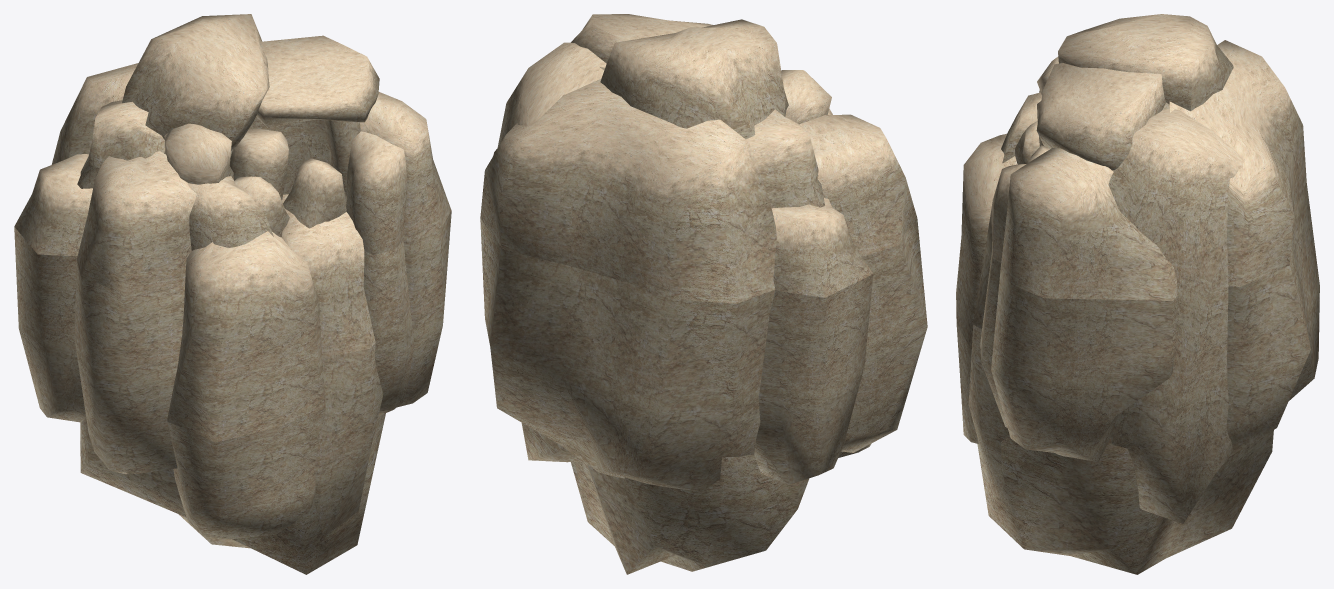
File: poi_all_lair_rancor_light_large_l0.fbx
3 renders of one model, left to right at view 1: azimuth 30°, elevation 25°; view 2: azimuth 150°, elevation 25°; view 3: azimuth 270°, elevation 25°, orthographic. The views are drawn at different scales.
Visible parts, largest first — view 1: mesh_node; view 2: mesh_node; view 3: mesh_node.
Part boxes in pixels (left/top/right/bottom): mesh_node: left=14, top=14, right=451, bottom=574; mesh_node: left=480, top=14, right=927, bottom=574; mesh_node: left=956, top=14, right=1319, bottom=574.
Size of the model in its own units: 36.89 by 48.43 by 32.2.
